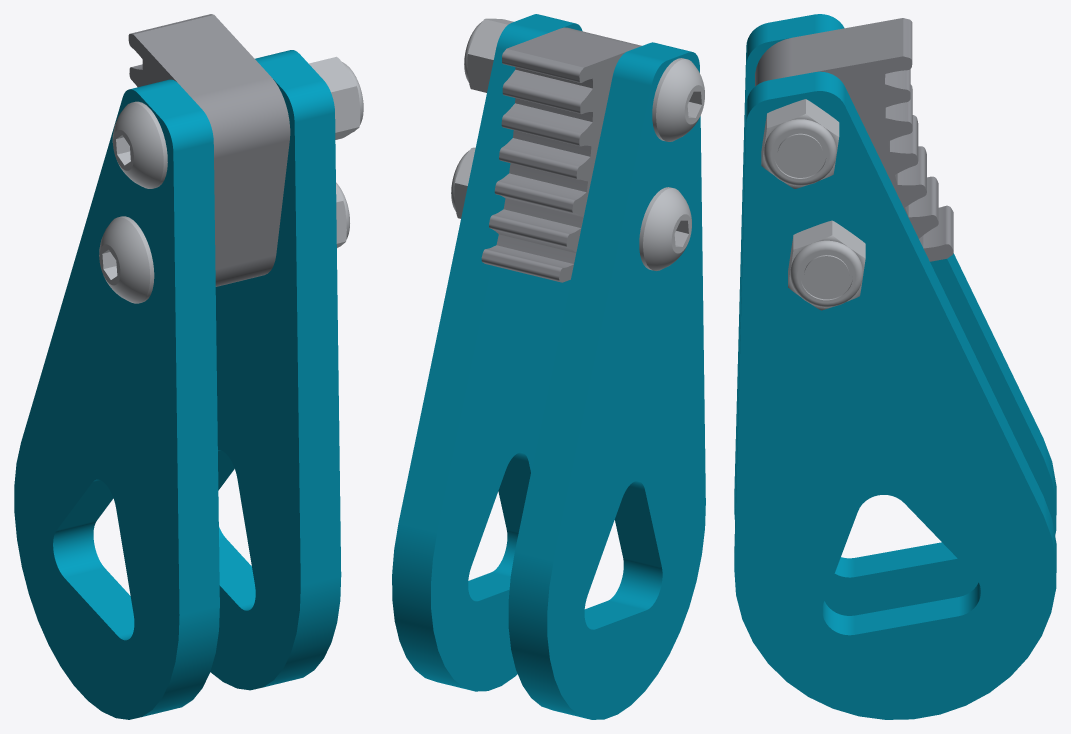
The model's file is AntiGear.glb.
3 views of the same model, side by side, from view 1: azimuth 30°, elevation 25°; view 2: azimuth 150°, elevation 25°; view 3: azimuth 270°, elevation 25° (orthographic). The views are drawn at different scales.
Parts seen in each view (by area): view 1: AntiGear; view 2: AntiGear; view 3: AntiGear.
Part boxes in pixels (<box>): AntiGear: <box>14,14,363,719</box>; AntiGear: <box>392,14,705,719</box>; AntiGear: <box>734,14,1056,719</box>.
Size of the model in its own units: 0.0278 by 0.0781 by 0.0354.
